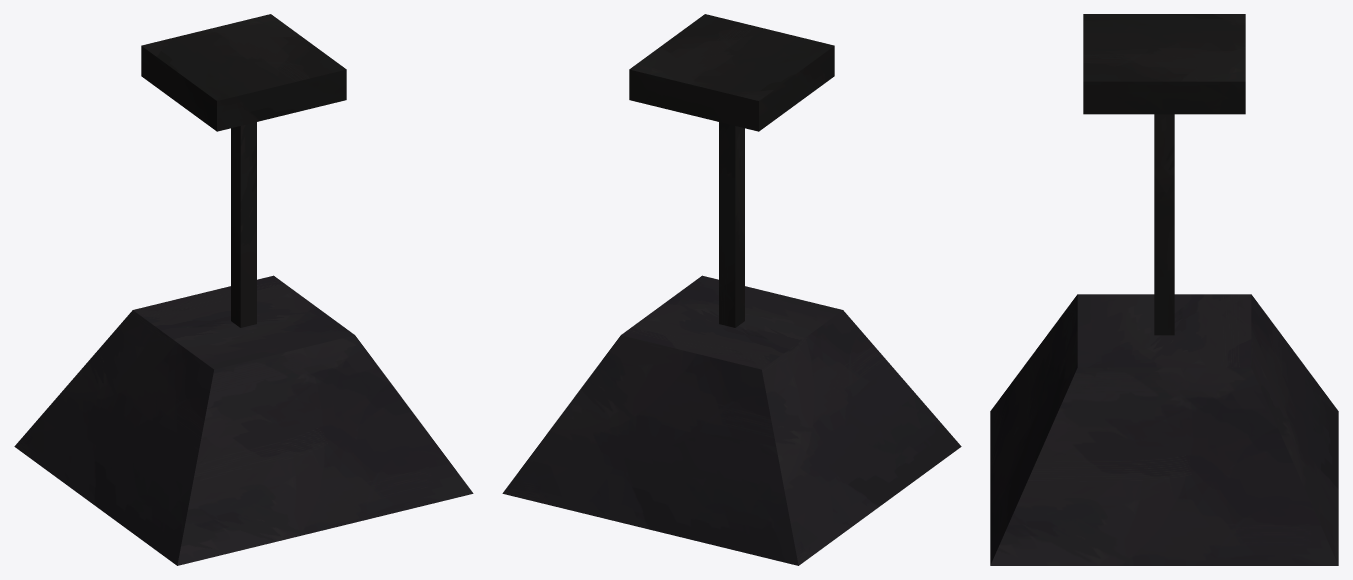
Rendered from M-CeillingLamp.fbx.
3 renders of one model, left to right at view 1: azimuth 30°, elevation 25°; view 2: azimuth 150°, elevation 25°; view 3: azimuth 270°, elevation 25°, orthographic. The views are drawn at different scales.
Parts seen in each view (by area): view 1: Cube.002; view 2: Cube.002; view 3: Cube.002.
Boxes of the visible parts, left/top/right/bottom form: Cube.002: left=14, top=14, right=473, bottom=565; Cube.002: left=502, top=14, right=961, bottom=565; Cube.002: left=990, top=14, right=1338, bottom=565.
Size of the model in its own units: 13.62 by 12.98 by 19.86.
Materials: 2 (2 with a texture image).
